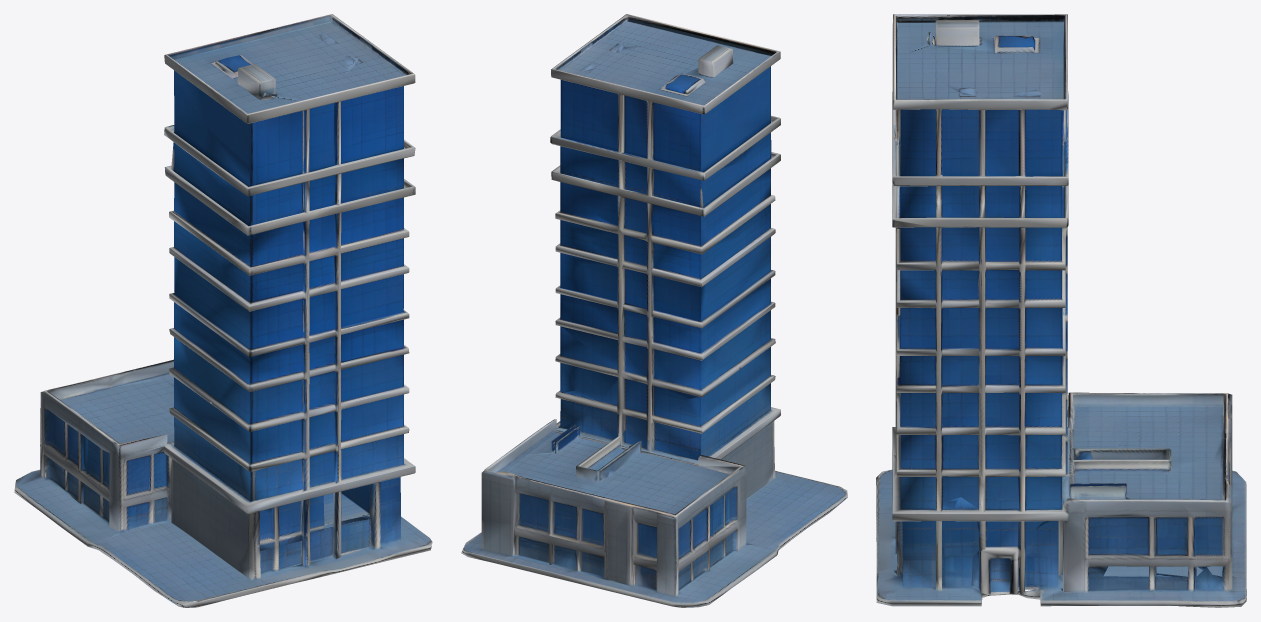
File: SM_Bld_FounderTower_01.glb
3 renders of one model, left to right at view 1: azimuth 30°, elevation 25°; view 2: azimuth 150°, elevation 25°; view 3: azimuth 270°, elevation 25°, orthographic. The views are drawn at different scales.
Parts seen in each view (by area): view 1: tripo_node_e5cce458-1a8b-4df5-a938-95fb7a633527; view 2: tripo_node_e5cce458-1a8b-4df5-a938-95fb7a633527; view 3: tripo_node_e5cce458-1a8b-4df5-a938-95fb7a633527.
Boxes of the visible parts, bbox=[...] form: tripo_node_e5cce458-1a8b-4df5-a938-95fb7a633527: bbox=[14, 14, 432, 607]; tripo_node_e5cce458-1a8b-4df5-a938-95fb7a633527: bbox=[461, 14, 847, 607]; tripo_node_e5cce458-1a8b-4df5-a938-95fb7a633527: bbox=[876, 14, 1246, 607].
Bounding box in the file's own units: 0.5744 × 0.9999 × 0.6608.
1 material, 1 textured.
